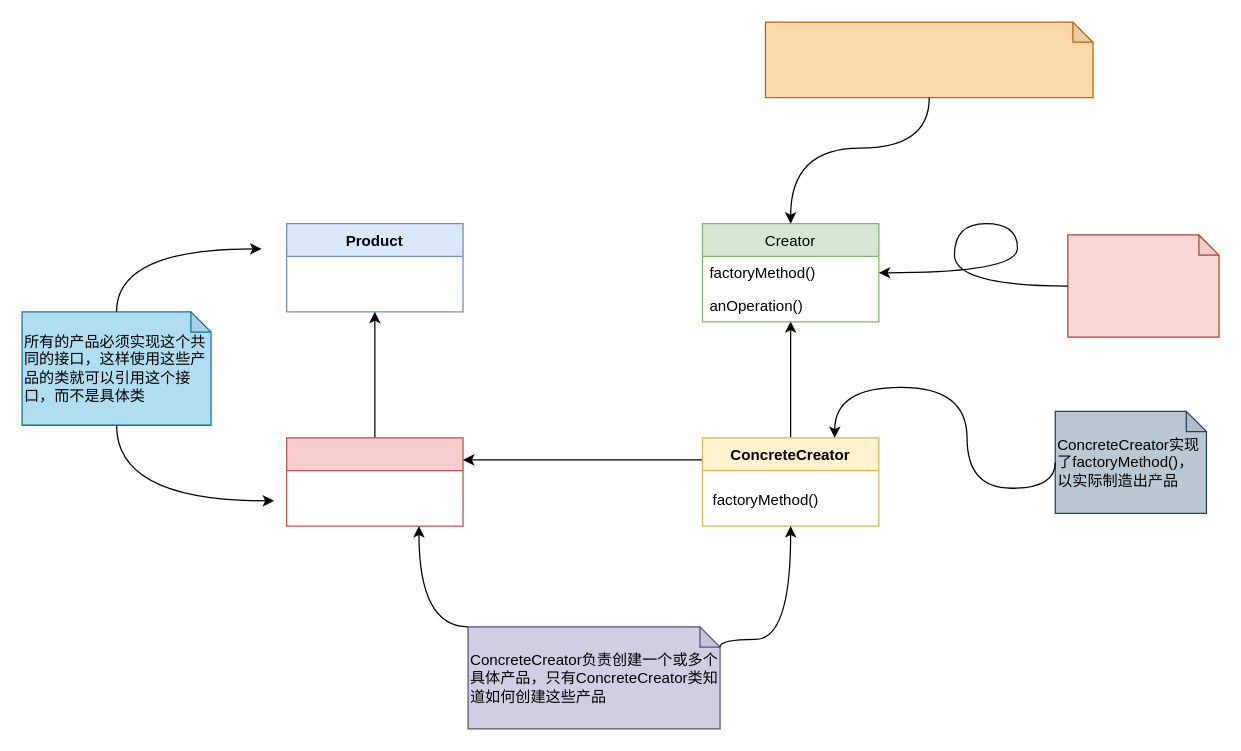
Some shapes in this 1241 by 751 pixel diagram are drawn without their labels. The shapes that lost their labels are listed below. From the top down, each one's centre as x and y in pixels, then its label:
point 928,59: Creator是一个类，它实现了所有操作产品的方法，但不实现工厂方法
point 1143,285: Creator所有的子类都必须实现这个抽象的factoryMethod
point 374,481: ConcreProduct
